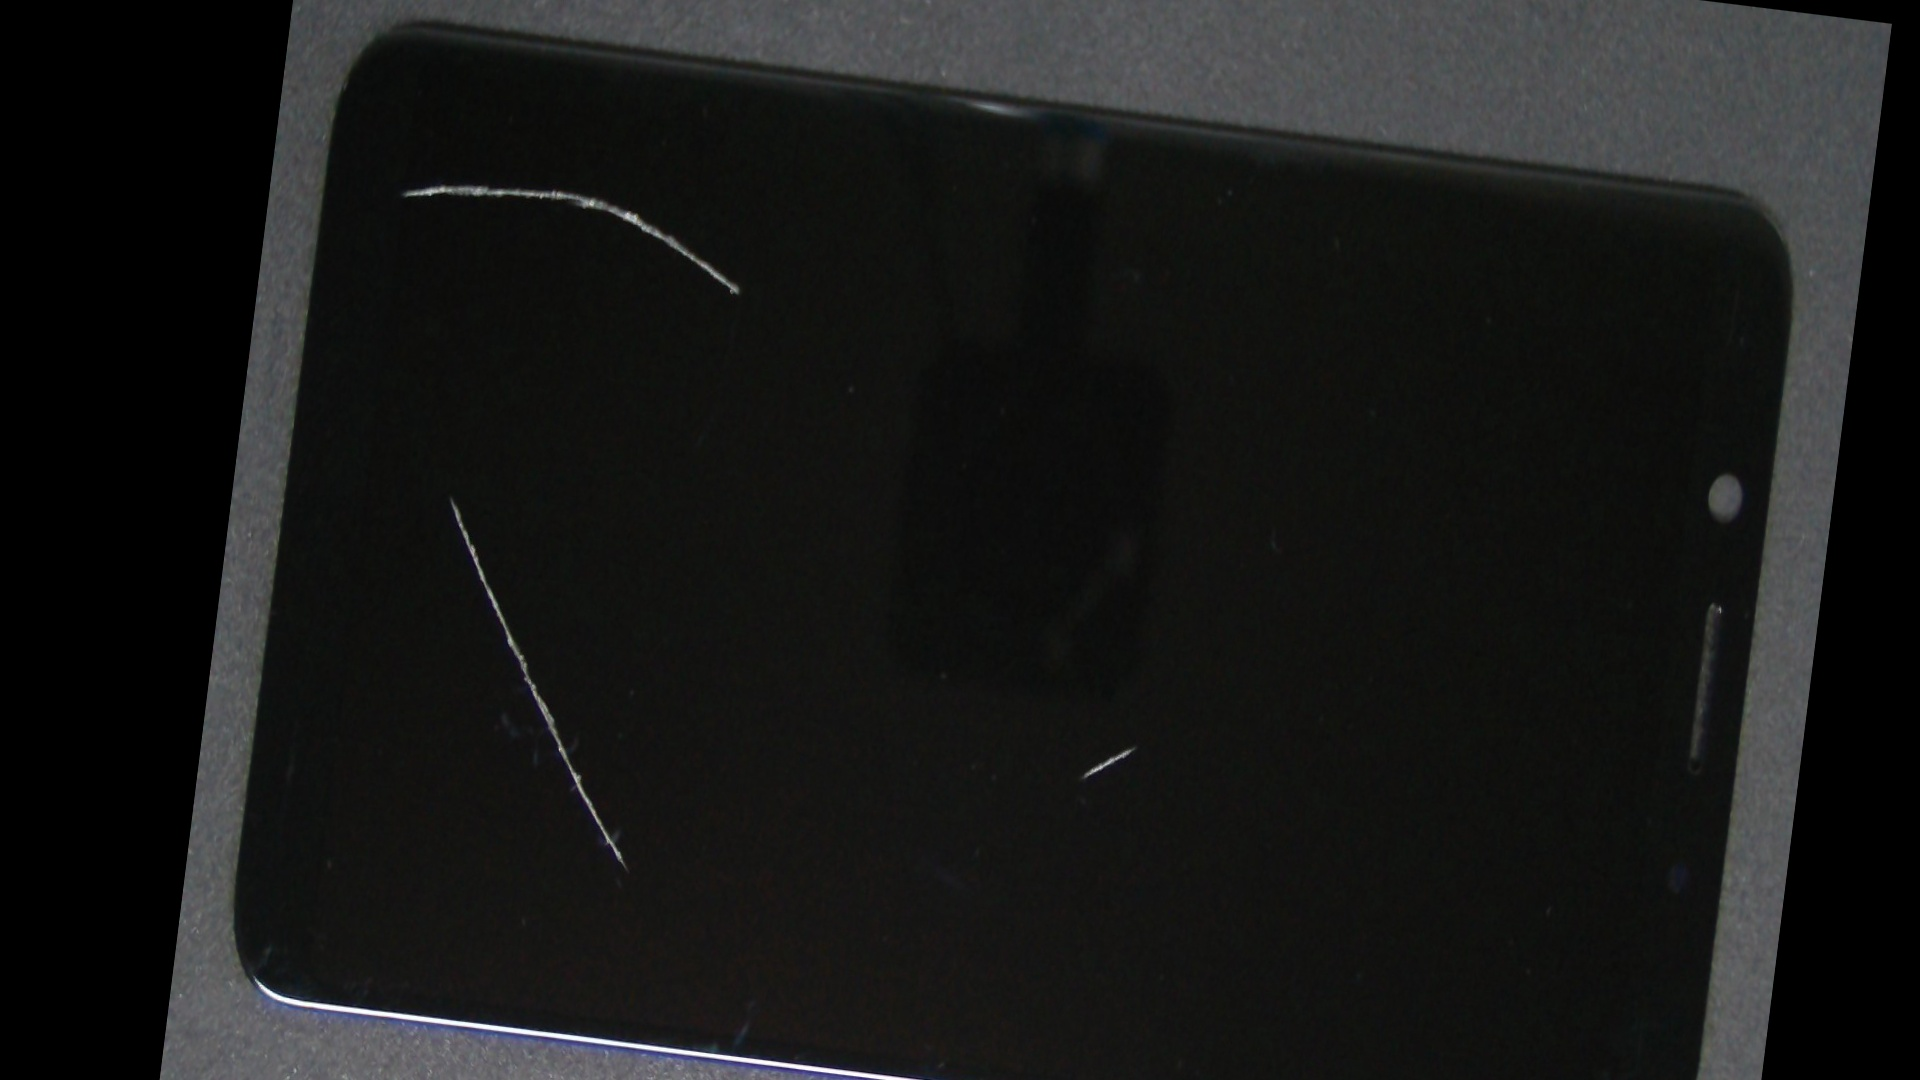oil: (626, 287, 1646, 1080), (303, 162, 599, 832), (397, 8, 720, 369)
